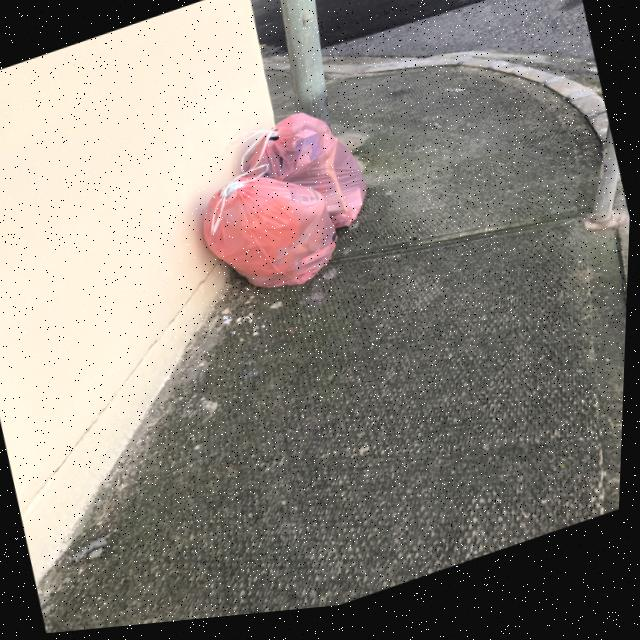Other: (193, 154, 352, 323), (241, 99, 380, 257)
